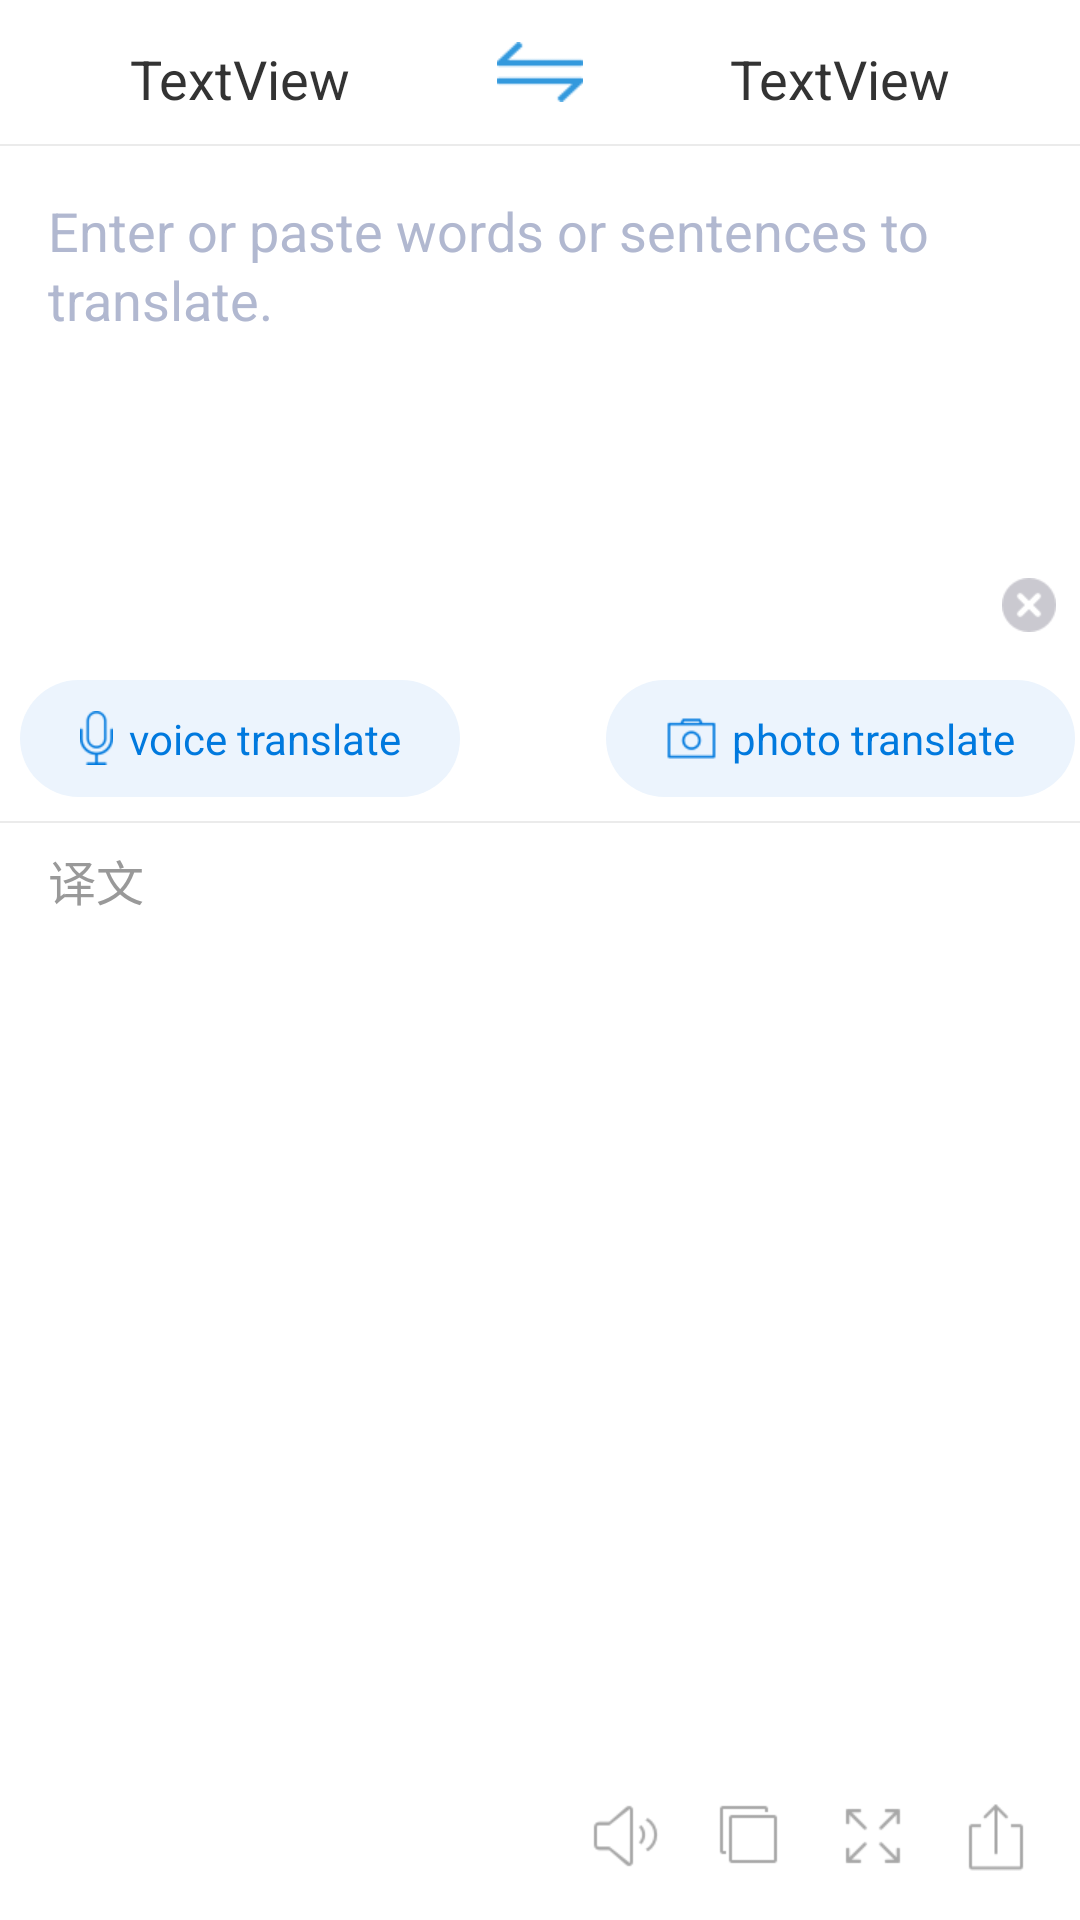

Where to tap for icons on this 1080*1920 app screen, as [x,y]:
clear: [1029,605]
exchange: [540,72]
voice translate magnify: [873,1836]
voice translate share: [996,1837]
